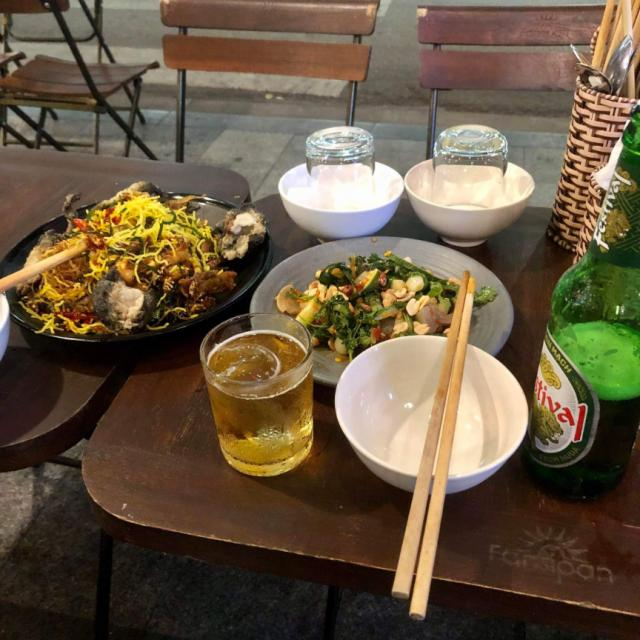bia: (526, 97, 640, 501)
ca chien: (19, 182, 264, 335)
ca song: (278, 250, 448, 334)
mi xao: (198, 317, 314, 477)
